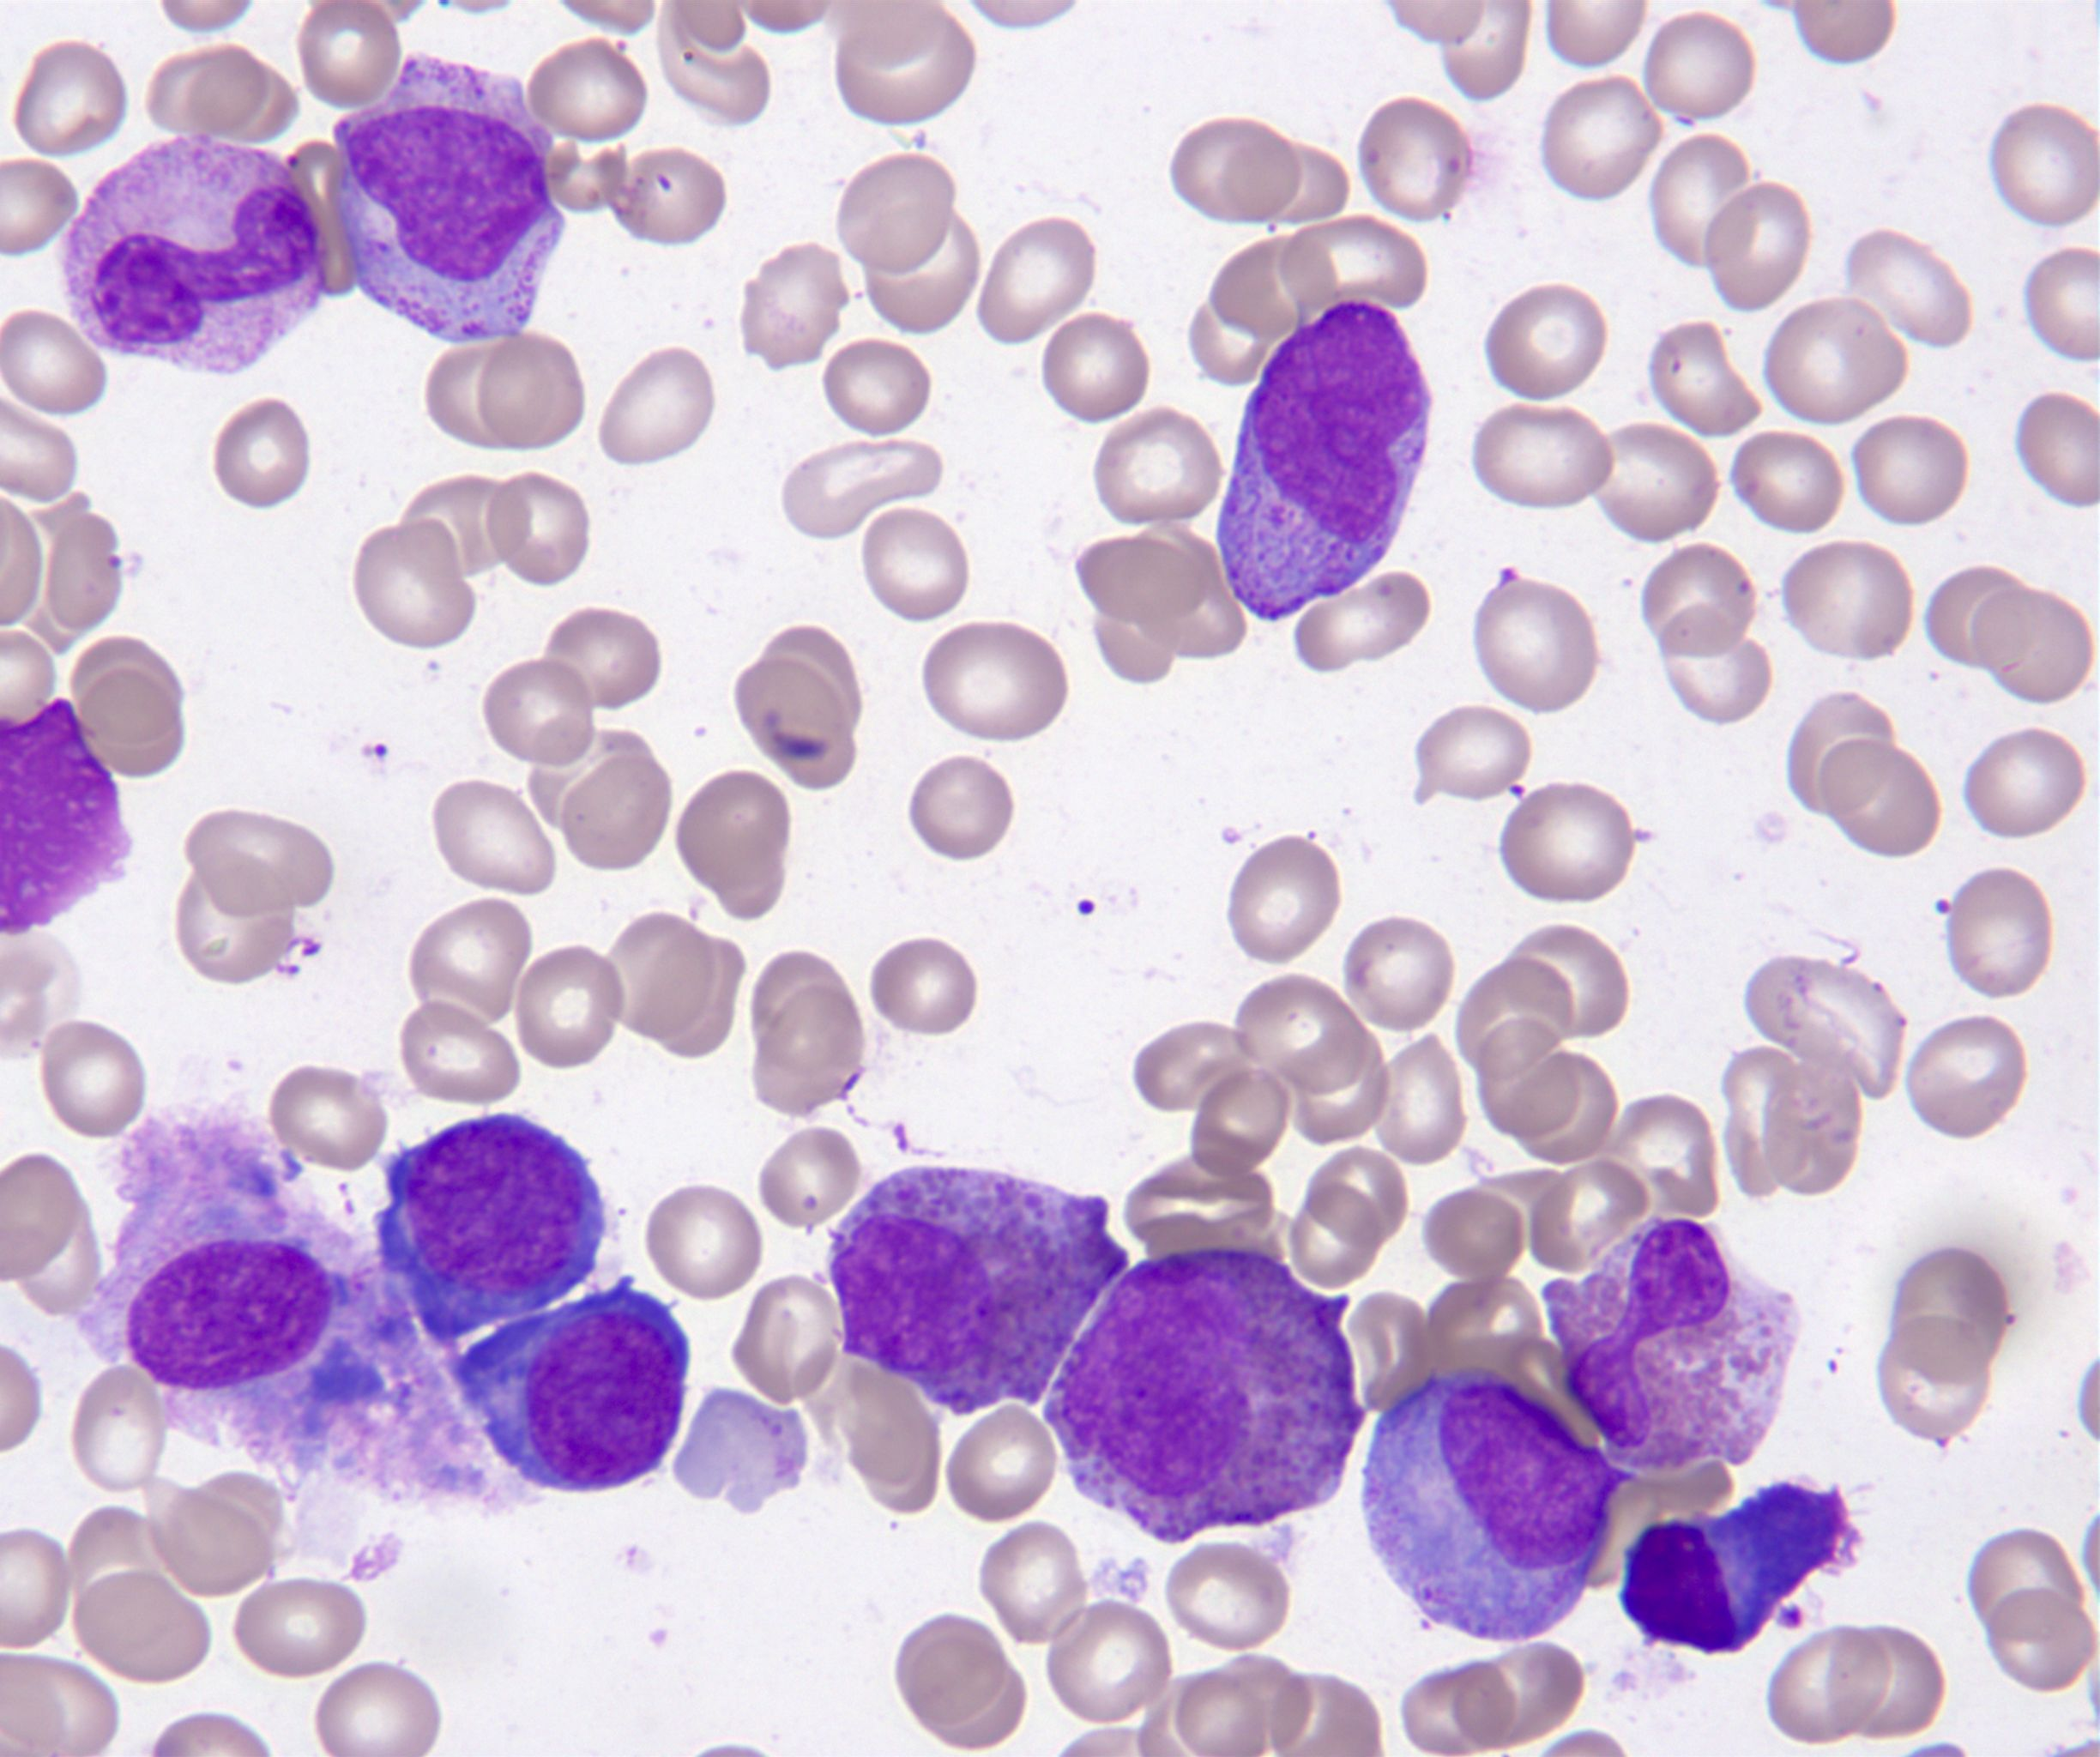2: (1217, 302, 1430, 619)
22: (378, 1113, 605, 1345), (453, 1281, 687, 1494)
3: (1364, 1373, 1638, 1647), (337, 54, 563, 344)
5: (56, 136, 321, 375)
52: (1620, 1485, 1866, 1654)
E1: (1045, 1251, 1367, 1544), (830, 1166, 1130, 1415)
E3: (1545, 1216, 1798, 1476)
x: (75, 1096, 548, 1518), (0, 698, 133, 935)
